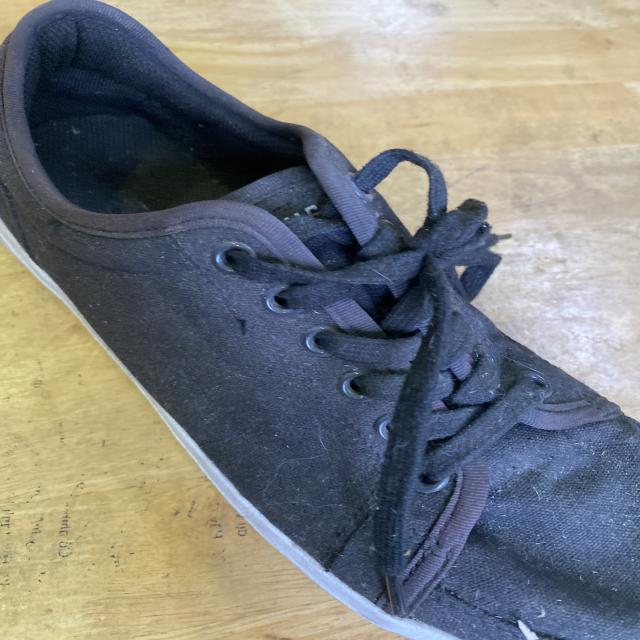broken-error: (34, 207, 81, 243), (222, 304, 264, 339)
